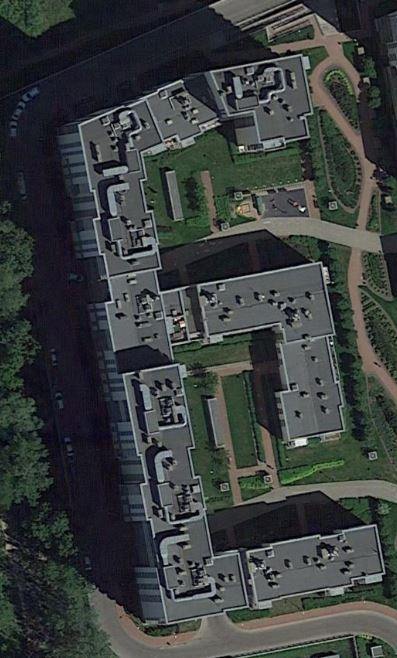block of flats: (49, 49, 390, 630)
